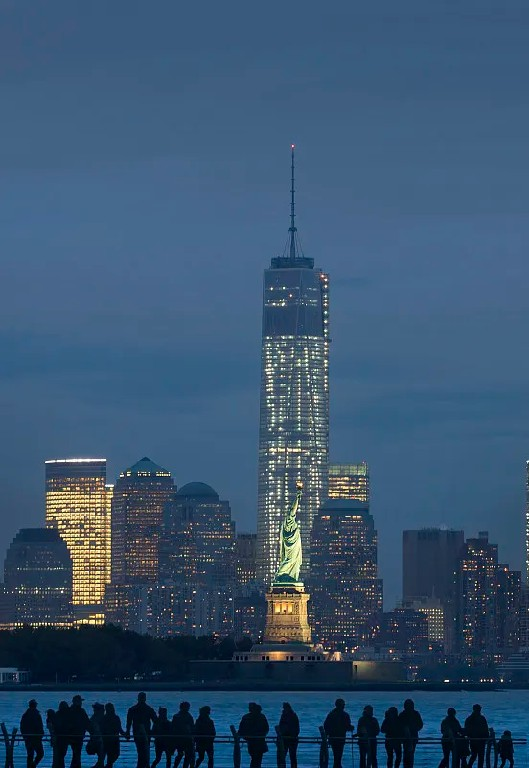SL: (261, 481, 312, 644)
